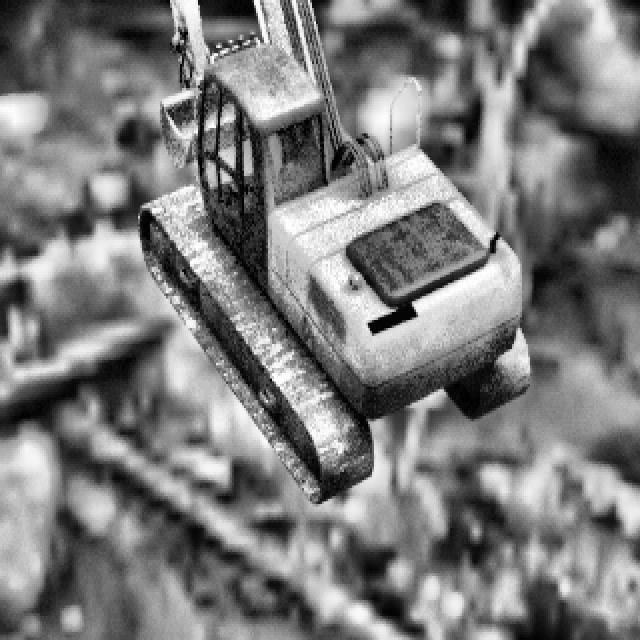excavator: (118, 0, 528, 501)
